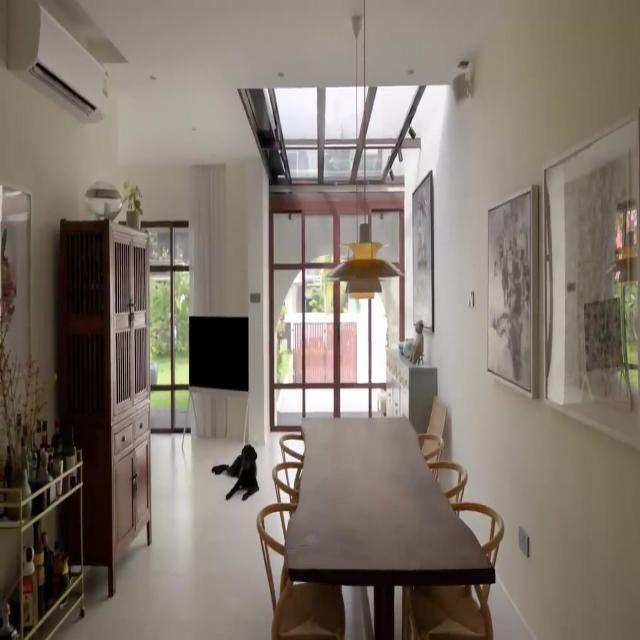obstacle: (284, 414, 496, 638), (56, 218, 152, 598), (0, 445, 85, 639)
